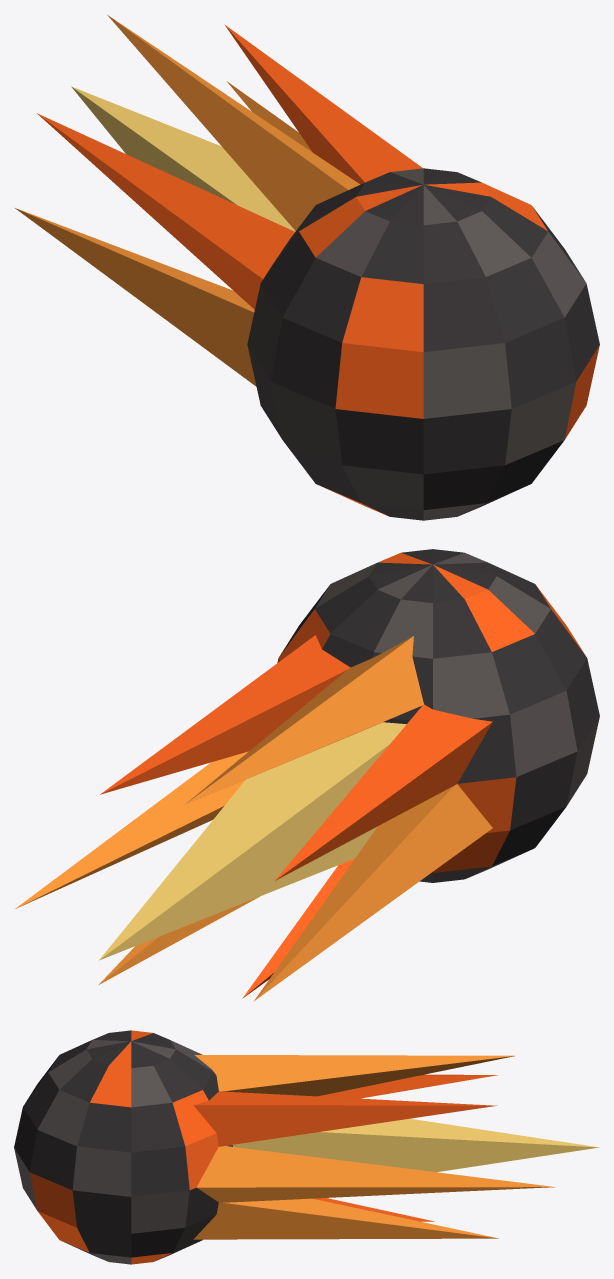
File: pyro_meteor.glb
3 views of the same model, one above another, from view 1: azimuth 30°, elevation 25°; view 2: azimuth 150°, elevation 25°; view 3: azimuth 270°, elevation 25° (orthographic). The views are drawn at different scales.
Parts seen in each view (by area): view 1: pyro_meteor; view 2: pyro_meteor; view 3: pyro_meteor.
Part boxes in pixels (x1=…): pyro_meteor: x1=15, y1=15, x2=599, y2=520; pyro_meteor: x1=15, y1=549, x2=599, y2=1001; pyro_meteor: x1=14, y1=1030, x2=599, y2=1264.
Size of the model in its own units: 1.8 by 1.8 by 4.5.
1 material, 1 textured.
